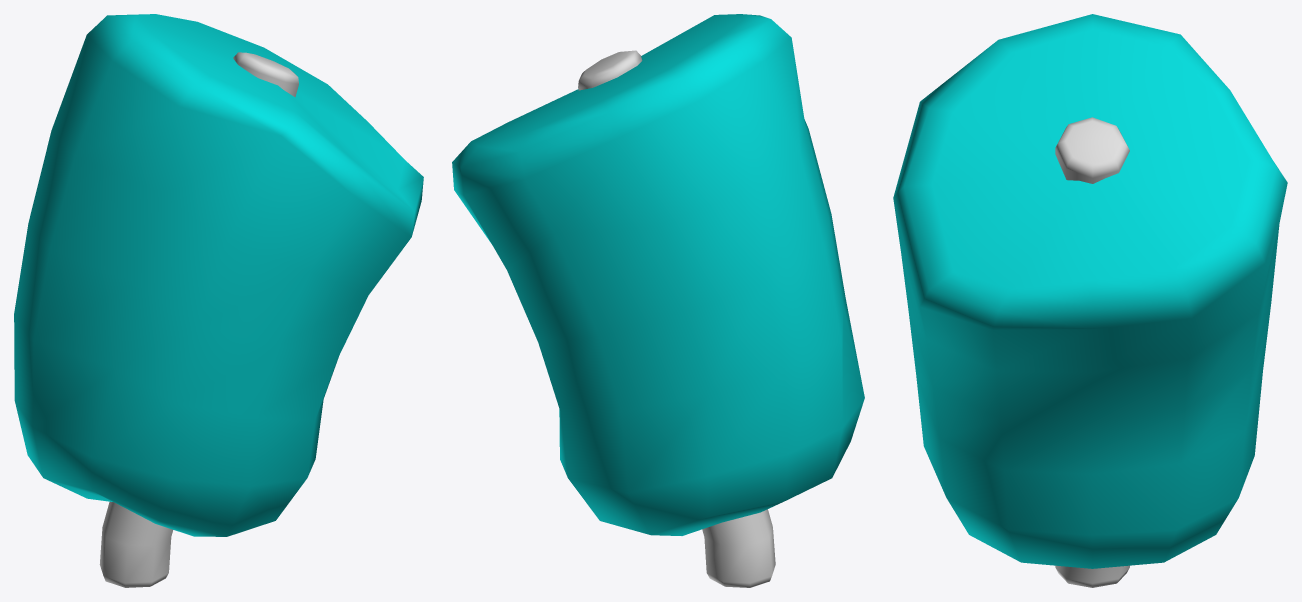
File: prp_Meat_D.fbx
3 views of the same model, side by side, from view 1: azimuth 30°, elevation 25°; view 2: azimuth 150°, elevation 25°; view 3: azimuth 270°, elevation 25° (orthographic). The views are drawn at different scales.
Parts seen in each view (by area): view 1: prp_Meat_D; view 2: prp_Meat_D; view 3: prp_Meat_D.
Boxes of the visible parts, x1,y1,x2,y2 form: prp_Meat_D: (14, 14, 423, 587); prp_Meat_D: (452, 14, 864, 587); prp_Meat_D: (893, 14, 1287, 587).
Bounding box in the file's own units: 0.3492 × 0.3309 × 0.5187.
